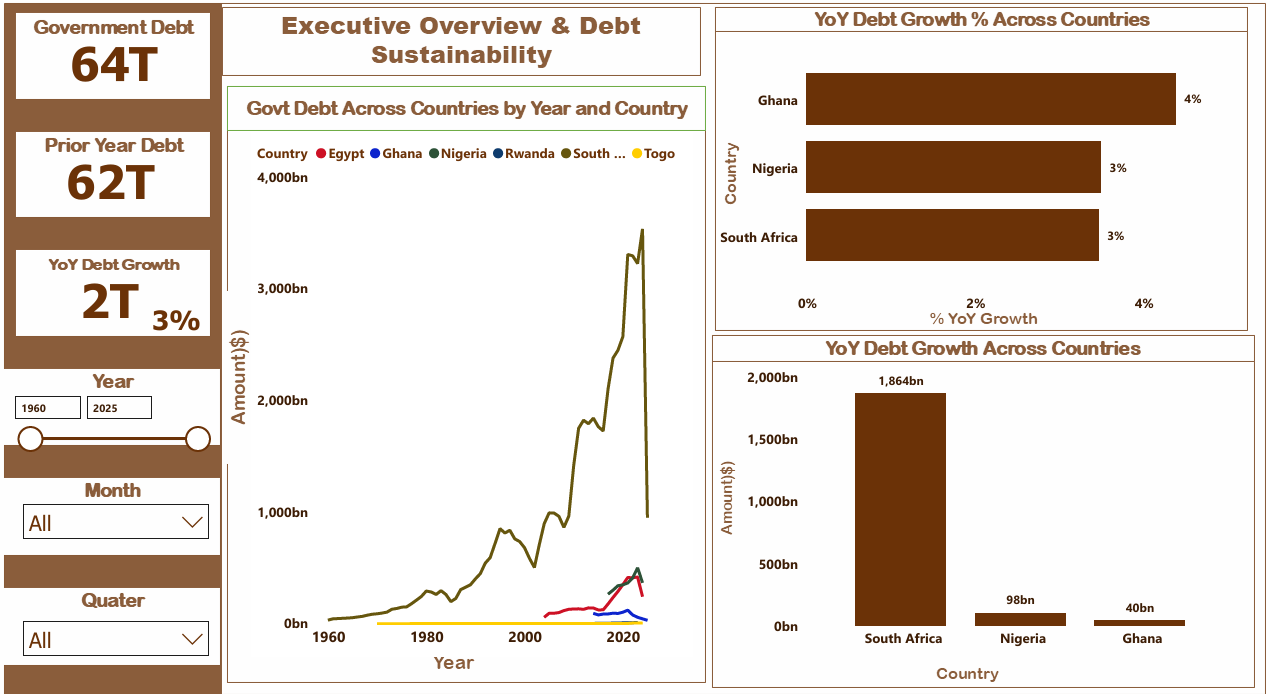

What the dashboard file says about the page in this screenshot:
{"tool":"powerbi","page":{"name":"Page 1","canvas":[1280,720],"ordinal":0},"visuals":[{"type":"lineChart","title":"Govt Debt Across Countries by Year and Country","fields":{"Category":["Calendar.Year"],"Y":["Sum(fact_economic_data_cleaned.Amount_USD)"],"Series":["Dim_Country.Country"]},"box":[257,136.6,442.4,525.4],"z":0},{"type":"clusteredBarChart","title":"YoY Debt Growth % Across Countries","fields":{"Category":["Dim_Country.Country"],"Y":["Govt_Debt KPI.YoY Debt Growth %"]},"box":[718.9,0,548.1,326.9],"z":1000},{"type":"columnChart","title":"YoY Debt Growth Analysis Across Countries","fields":{"Category":["Dim_Country.Country"],"Y":["Govt_Debt KPI.YoY Debt Growth1"]},"box":[735.2,359.5,501,302.5],"z":2000},{"type":"slicer","fields":{"Values":["Calendar.Year"]},"box":[6.5,390.4,218,73.2],"z":3000},{"type":"slicer","fields":{"Values":["Calendar.Month"]},"box":[17.9,497.7,206.6,53.7],"z":4000},{"type":"slicer","fields":{"Values":["Calendar.Quarter"]},"box":[17.9,614.8,206.6,47.2],"z":5000},{"type":"cardVisual","fields":{"Data":["Govt_Debt KPI.YoY Debt Growth1"]},"box":[11.4,258.6,206.6,87.8],"z":6000},{"type":"cardVisual","fields":{"Data":["Govt_Debt KPI.YoY Debt Growth %"]},"box":[126.9,286.3,115.5,73.2],"z":7000},{"type":"cardVisual","fields":{"Data":["Govt_Debt KPI.Total Debt"]},"box":[19.5,21.1,198.4,87.8],"z":8000},{"type":"cardVisual","fields":{"Data":["Govt_Debt KPI.Previous Year Debt"]},"box":[19.5,136.6,191.9,92.7],"z":9000}]}

Visuals, with their boxes in screenshot pixels (x1, y1, x2, y2), scaled from the page's 1280x720 canvas onto the 1267x694 screenshot:
"Govt Debt Across Countries by Year and Country" lineChart: (254,132,692,638)
"YoY Debt Growth % Across Countries" clusteredBarChart: (712,0,1254,315)
"YoY Debt Growth Analysis Across Countries" columnChart: (728,347,1224,638)
slicer - Calendar.Year: (6,376,222,447)
slicer - Calendar.Month: (18,480,222,531)
slicer - Calendar.Quarter: (18,593,222,638)
cardVisual - Govt_Debt KPI.YoY Debt Growth1: (11,249,216,334)
cardVisual - Govt_Debt KPI.YoY Debt Growth %: (126,276,240,347)
cardVisual - Govt_Debt KPI.Total Debt: (19,20,216,105)
cardVisual - Govt_Debt KPI.Previous Year Debt: (19,132,209,221)
